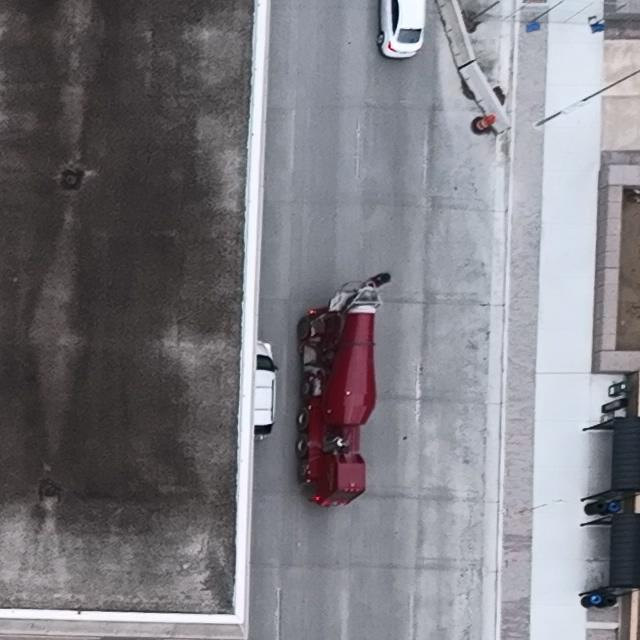car: (297, 273, 390, 506), (376, 0, 425, 59), (253, 341, 279, 440)
